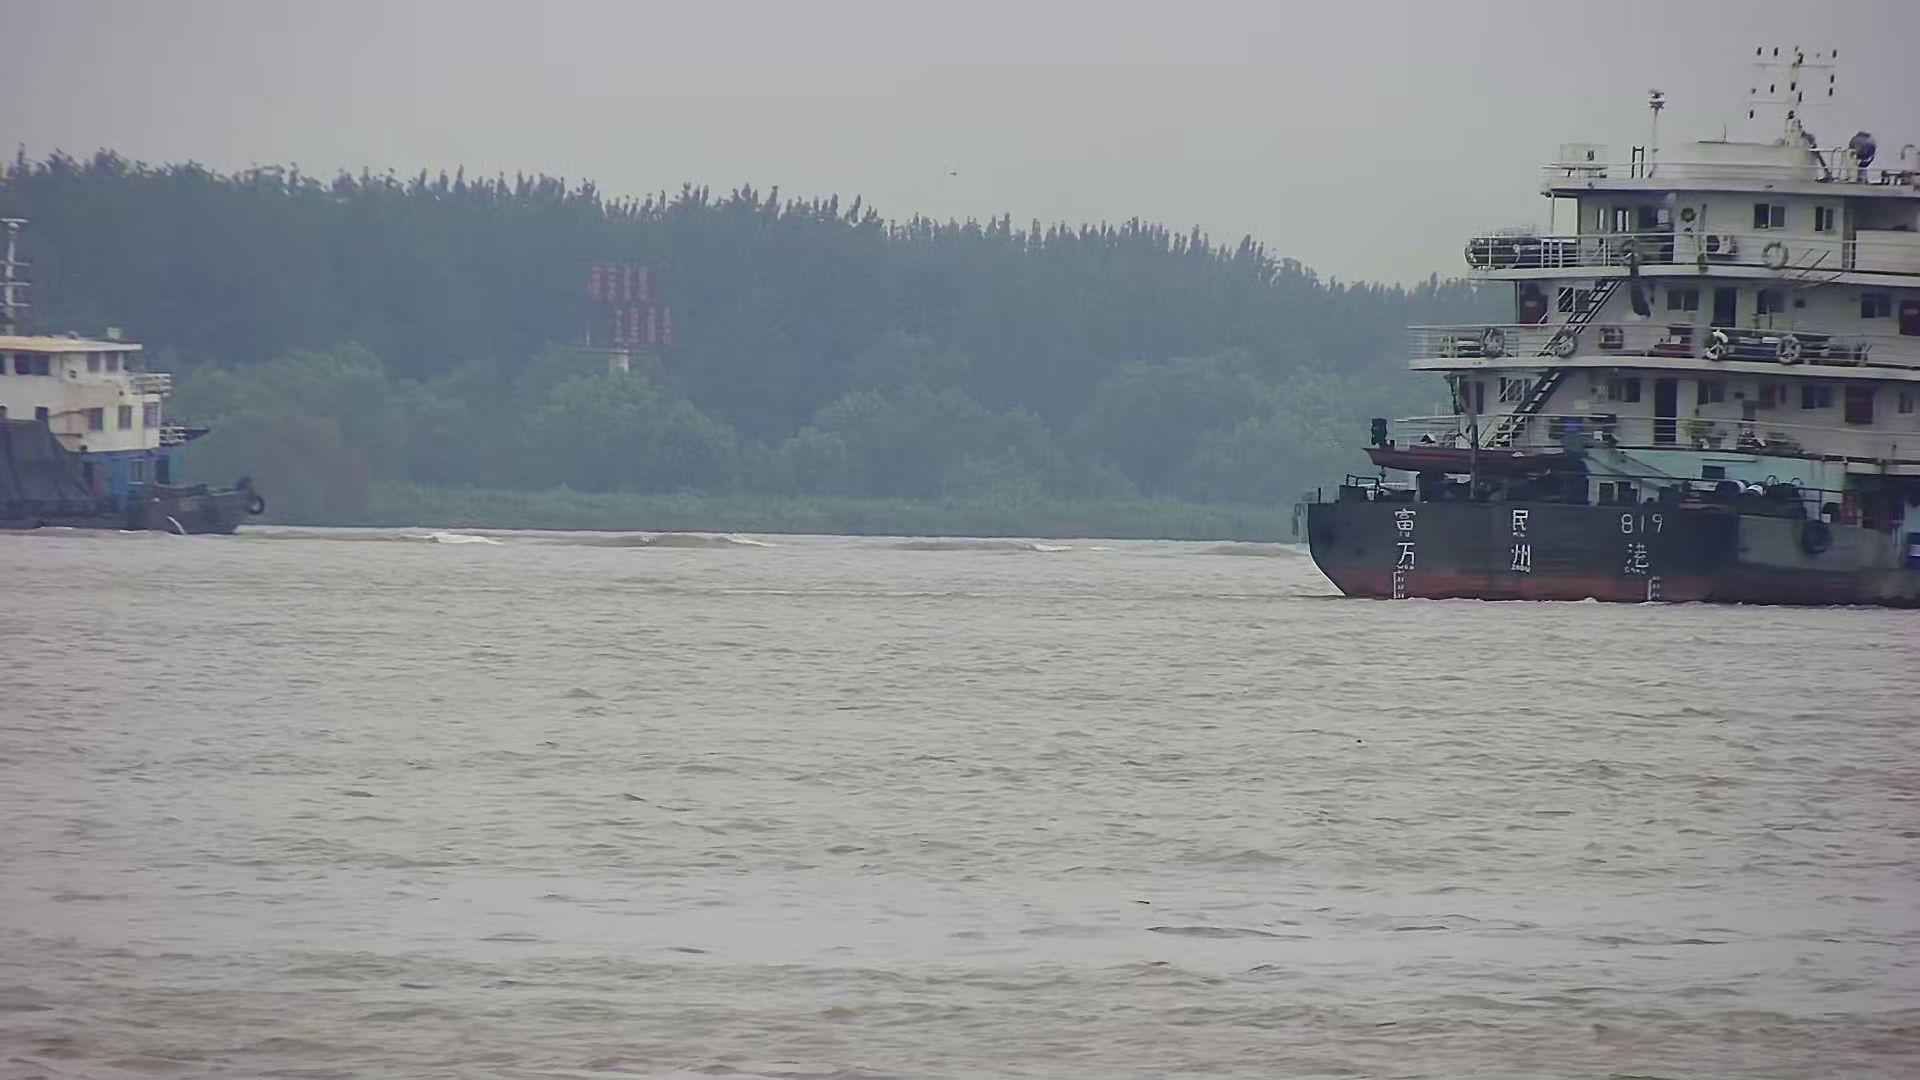ship: (1296, 45, 1920, 609), (1, 208, 264, 545)
